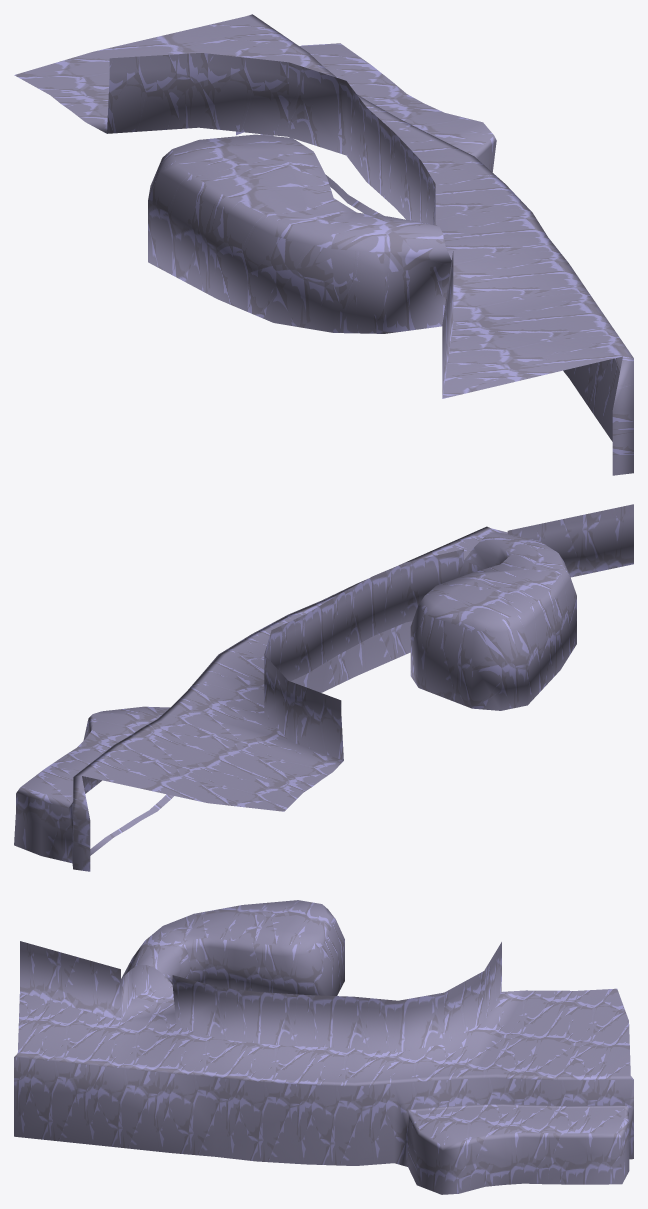
File: model-level3.fbx
The picture shows the model from 3 angles, top to bottom: view 1: azimuth 30°, elevation 25°; view 2: azimuth 150°, elevation 25°; view 3: azimuth 270°, elevation 25°; orthographic projection. The views are drawn at different scales.
Parts seen in each view (by area): view 1: mountain1; view 2: mountain1; view 3: mountain1.
Boxes of the visible parts, x1=… form: mountain1: x1=14, y1=14, x2=633, y2=475; mountain1: x1=14, y1=504, x2=633, y2=871; mountain1: x1=14, y1=900, x2=633, y2=1194.
Size of the model in its own units: 325 by 159 by 566.
